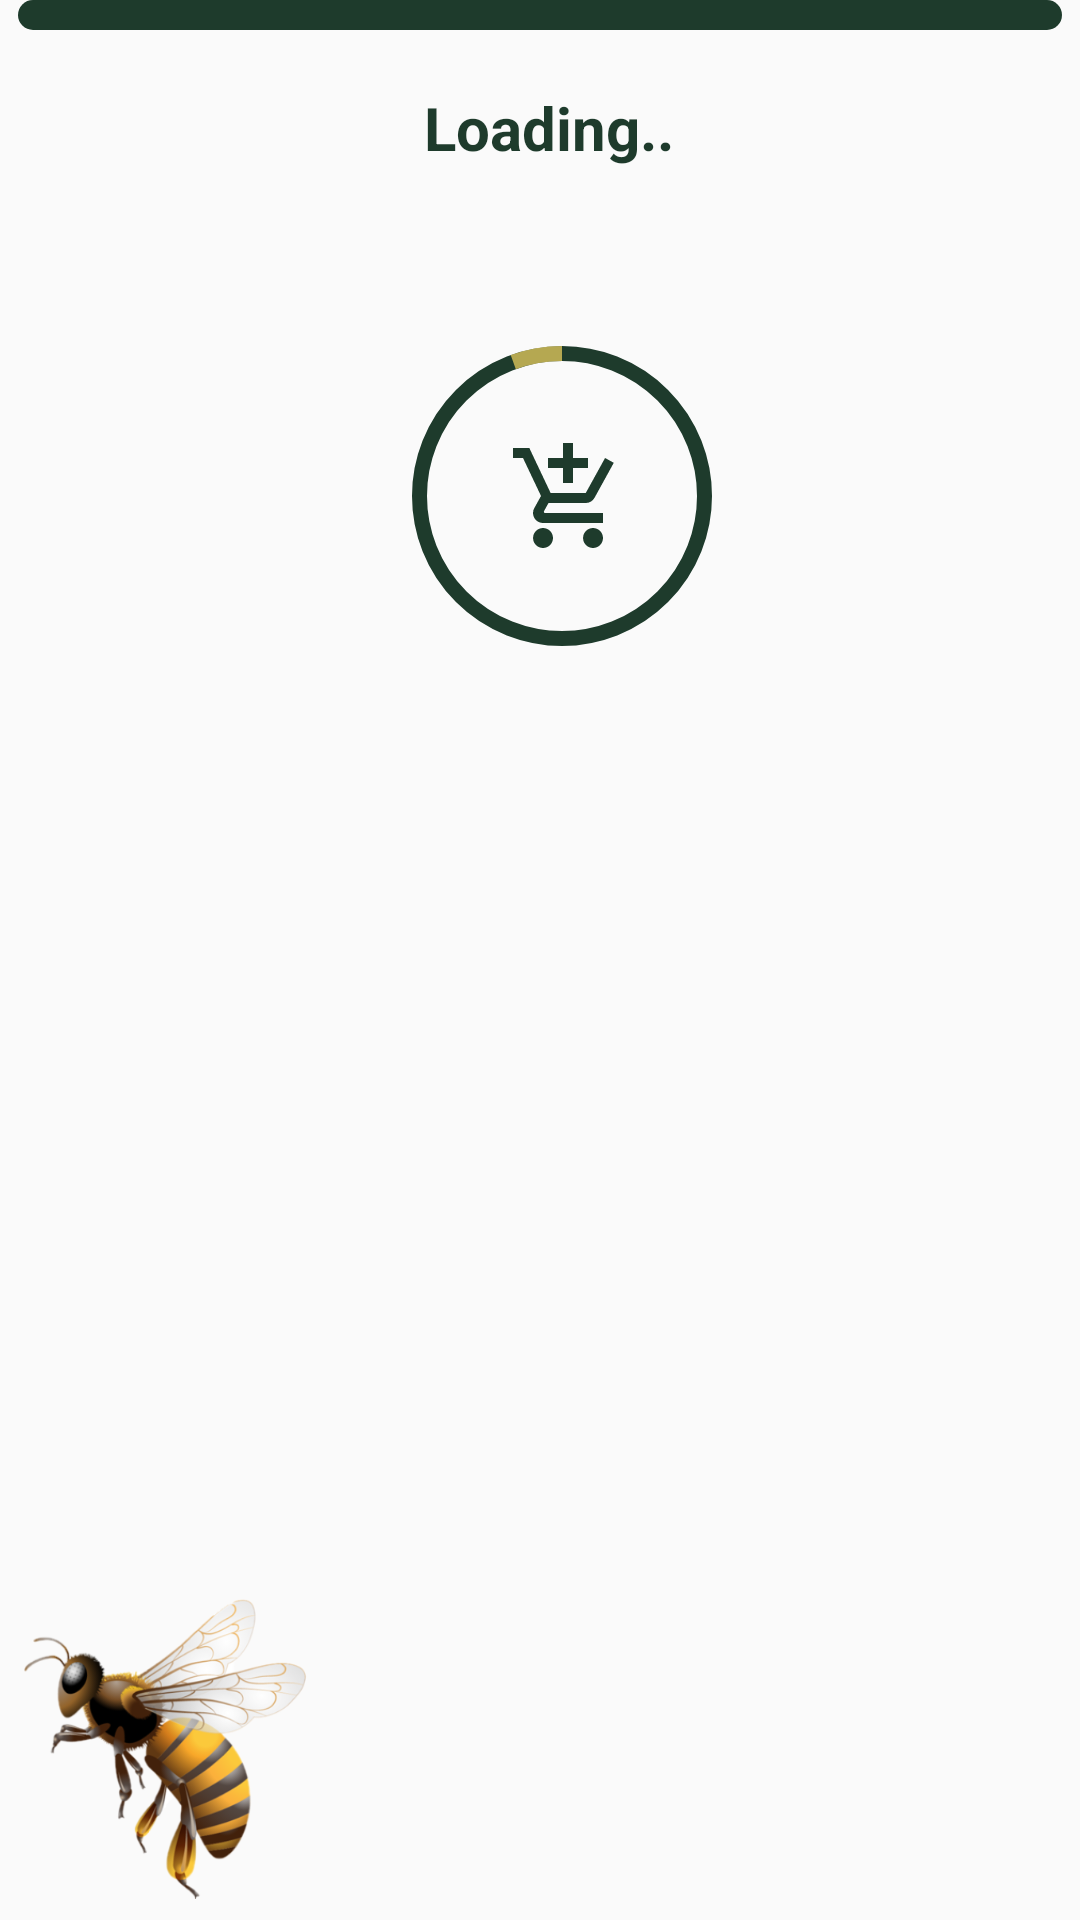

Screen size 1080 x 1920. Icon name, then its center in pixels as [x,y]:
add shopping cart: [563,495]
